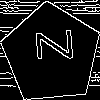Z: (26, 28, 74, 63)
